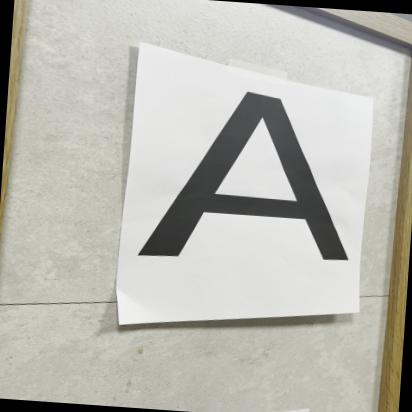seat: (122, 70, 383, 308)
